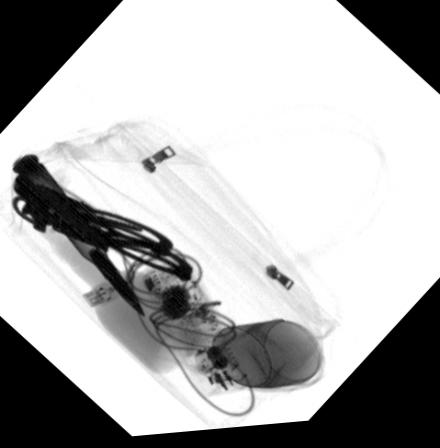Bullet: (10, 154, 145, 319)
HandCuffs: (9, 174, 194, 282)
